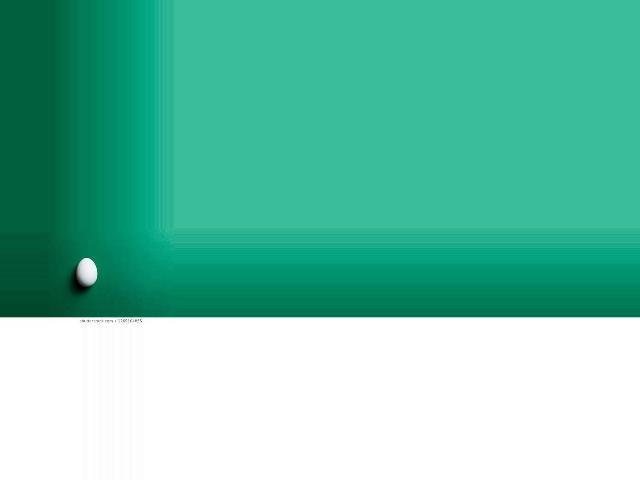egg: (77, 258, 98, 287)
